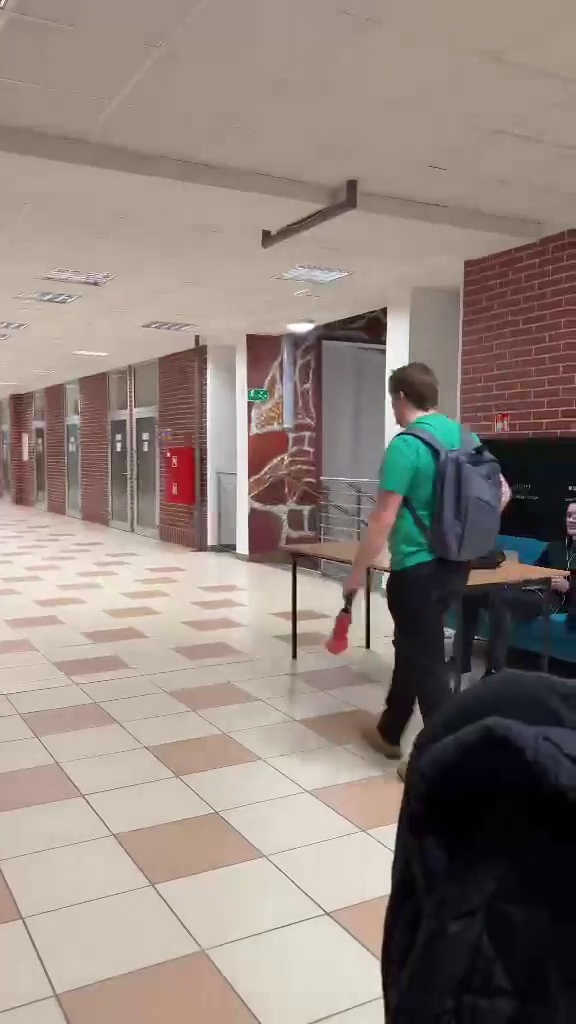no vest: (349, 362, 513, 706)
